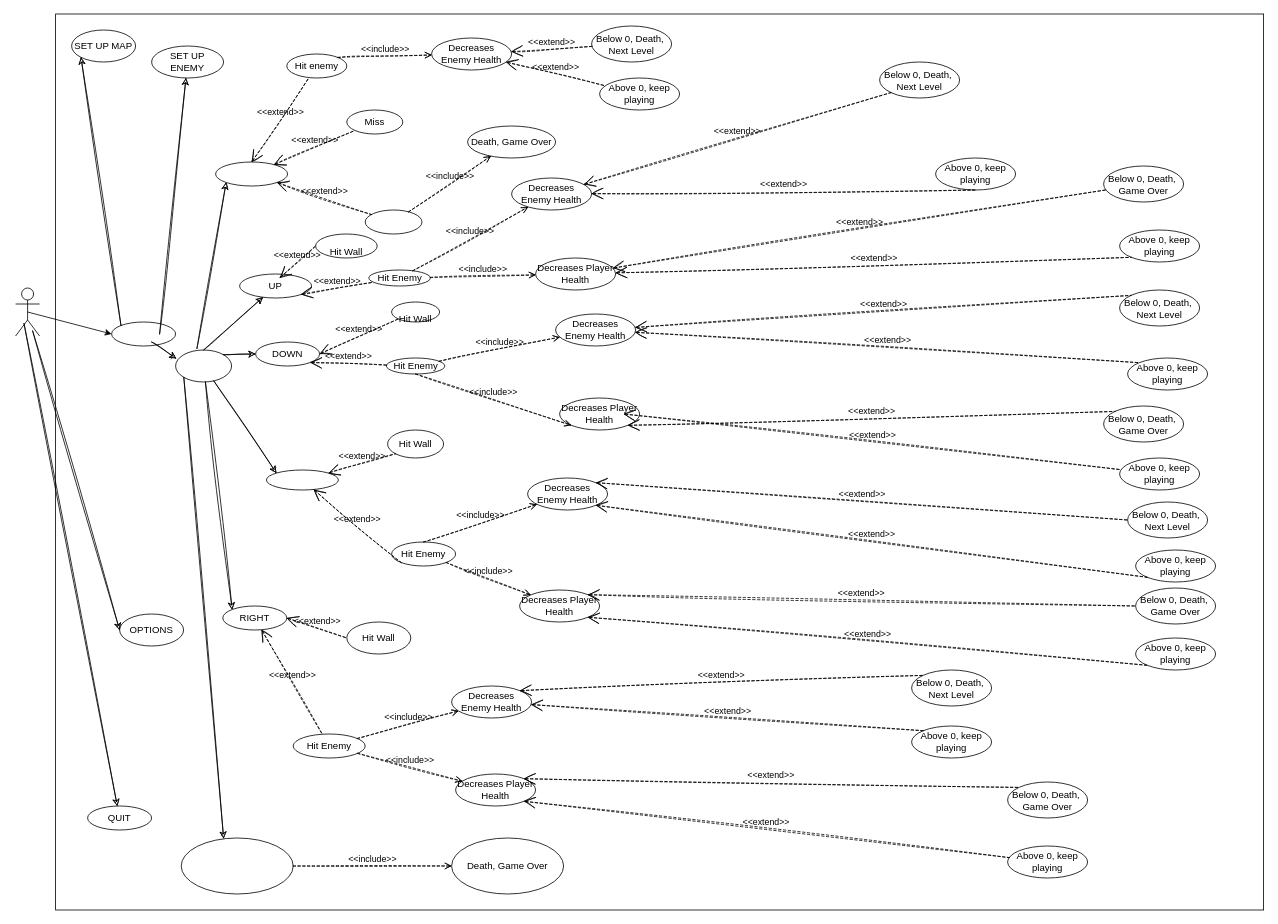
Image size: 1278x924. Some labels were removed from this diagram. The centre of each missing label's shape, as x and y in pixels:
FIRE: the point at 251,173
Get Hit: the point at 236,865
Hit Yourself: the point at 393,221
LEFT: the point at 302,479
PLAY: the point at 143,333
Player: the point at 27,311
SET UP TANK: the point at 203,365
